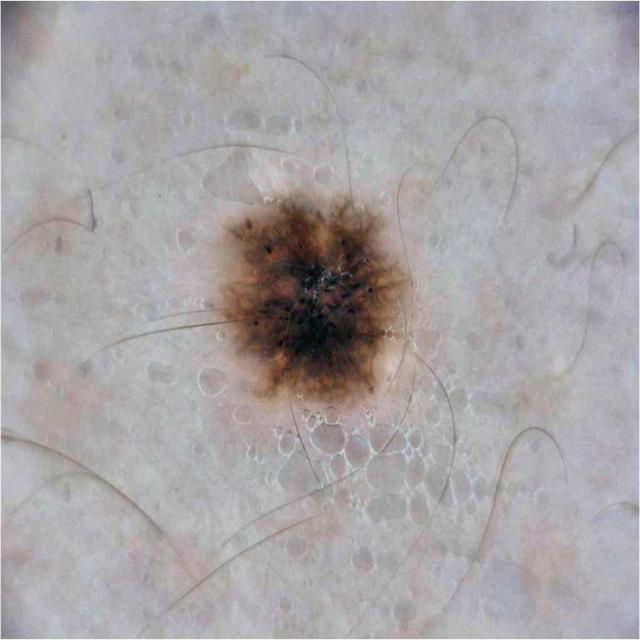Melanocytic-Nevi-NV-: (216, 192, 408, 405)
